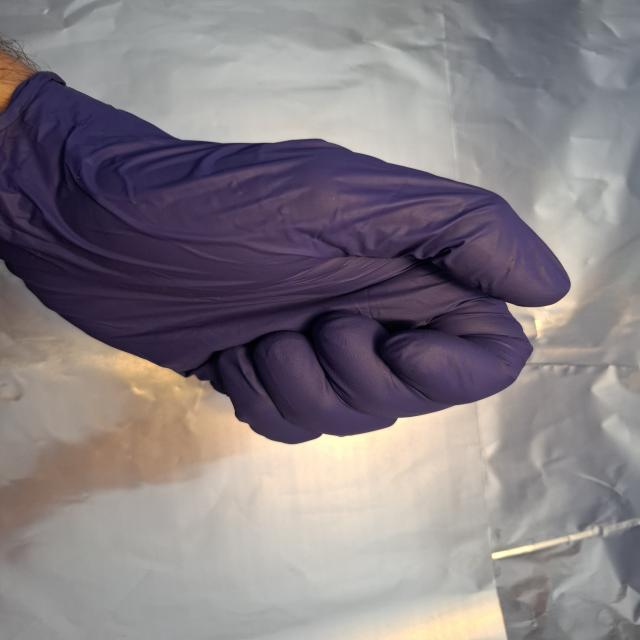glove_on: (0, 62, 575, 452)
